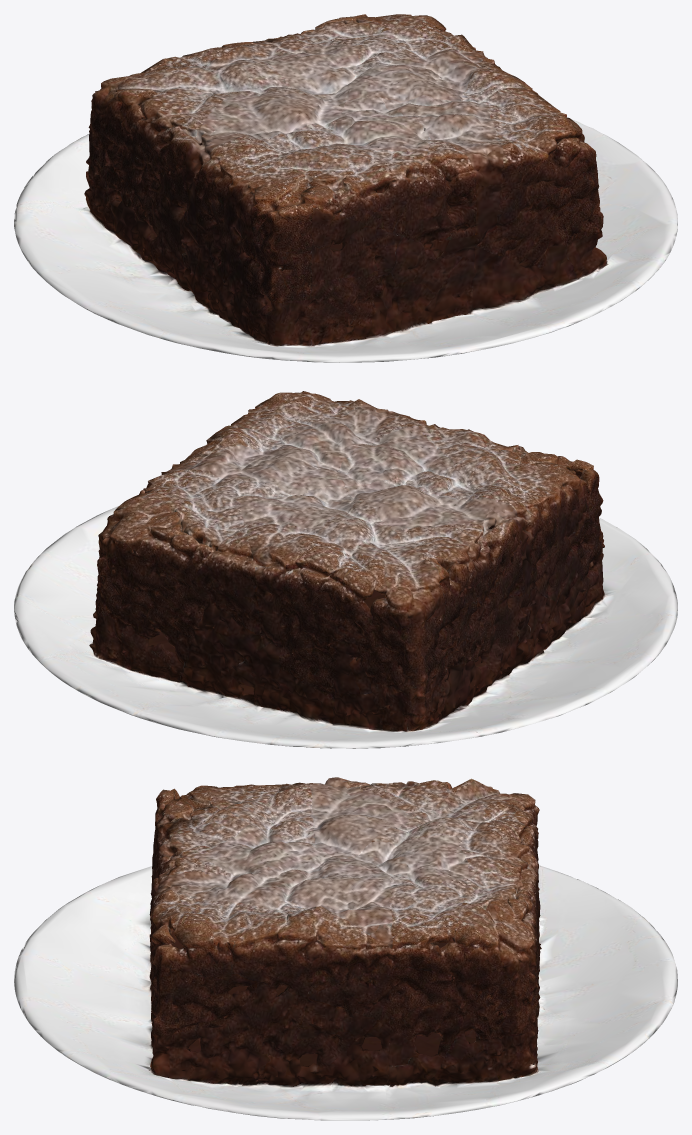
File: chocolate-brownie.glb
3 views of the same model, one above another, from view 1: azimuth 30°, elevation 25°; view 2: azimuth 150°, elevation 25°; view 3: azimuth 270°, elevation 25° (orthographic).
Visible parts, largest first — view 1: mesh_node; view 2: mesh_node; view 3: mesh_node.
Part boxes in pixels (box(x1,y1,x2,y2)): mesh_node: box(14, 14, 677, 362); mesh_node: box(14, 391, 677, 748); mesh_node: box(14, 777, 677, 1120).
Bounding box in the file's own units: 1.9 × 0.5481 × 1.9.
1 material, 1 textured.
